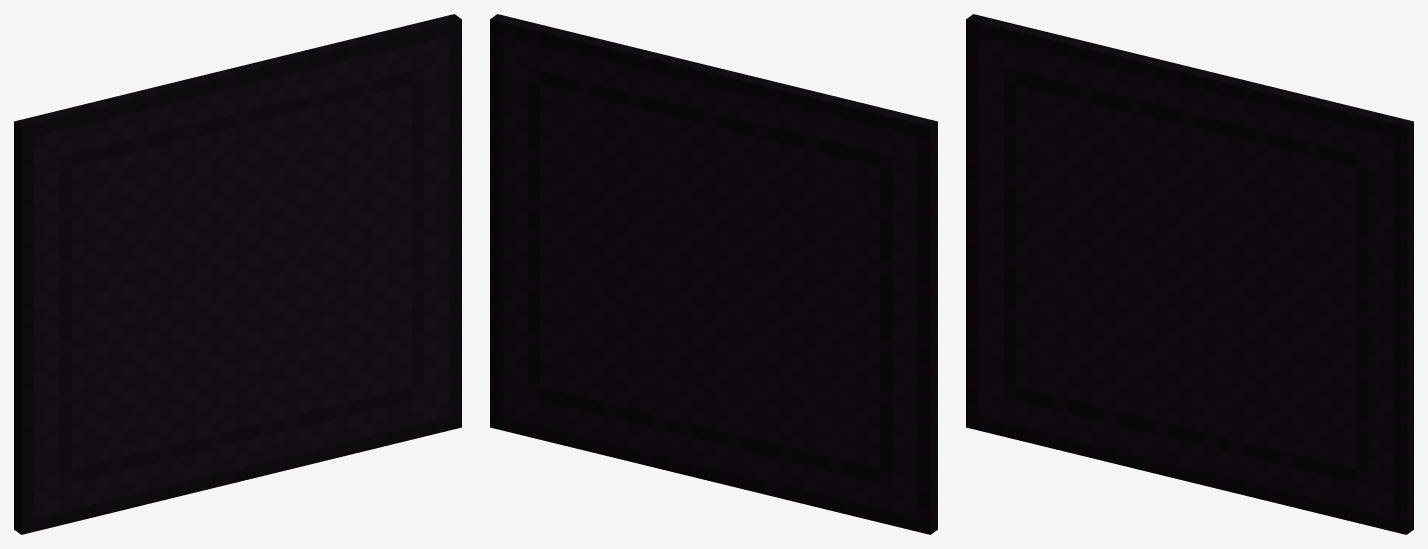
Rendered from carpet-1.obj.
3 views of the same model, side by side, from view 1: azimuth 30°, elevation 25°; view 2: azimuth 150°, elevation 25°; view 3: azimuth 330°, elevation 25° (orthographic).
Bounding box in the file's own units: 3.5 × 3.1 × 0.1.
Materials: 1 (1 with a texture image).
